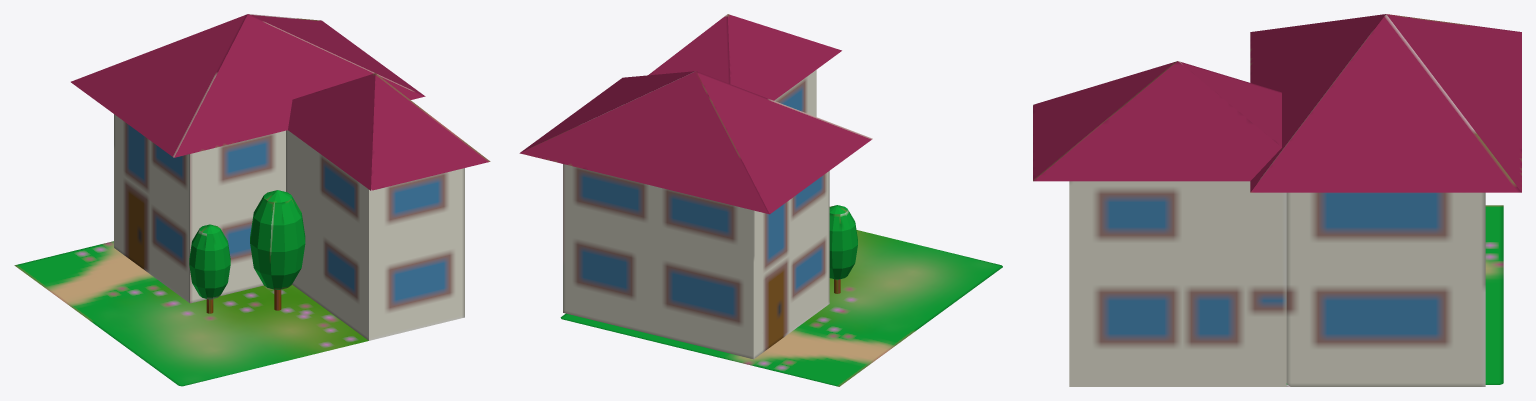
File: jp house.fbx
3 renders of one model, left to right at view 1: azimuth 30°, elevation 25°; view 2: azimuth 150°, elevation 25°; view 3: azimuth 270°, elevation 25°, orthographic. The views are drawn at different scales.
Parts seen in each view (by area): view 1: cube_1, pyramid, plane, cube, pyramid_1, sphere_1, sphere; view 2: cube, pyramid, plane, pyramid_1, sphere, cube_1; view 3: cube_1, pyramid, cube, pyramid_1, plane.
Boxes of the visible parts, x1,y1,x2,y2 form: cube_1: [286, 130, 464, 340]; pyramid: [71, 14, 425, 157]; plane: [14, 241, 368, 386]; cube: [114, 114, 285, 303]; pyramid_1: [288, 73, 490, 190]; sphere_1: [250, 190, 305, 289]; sphere: [189, 224, 230, 299]; cube: [563, 164, 829, 359]; pyramid: [519, 71, 872, 214]; plane: [560, 230, 1002, 386]; pyramid_1: [648, 14, 841, 100]; sphere: [829, 205, 857, 279]; cube_1: [774, 70, 816, 116]; cube_1: [1069, 181, 1286, 386]; pyramid: [1250, 14, 1521, 192]; cube: [1286, 192, 1485, 386]; pyramid_1: [1033, 61, 1281, 181]; plane: [1286, 205, 1503, 384].
Bounding box in the file's own units: 328 × 241 × 338.
Materials: 1 (1 with a texture image).
